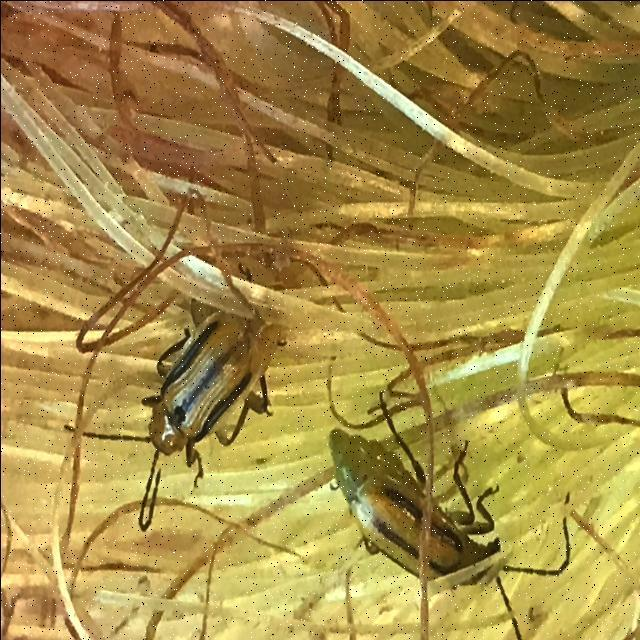trips: (328, 389, 572, 640), (62, 304, 282, 532)
